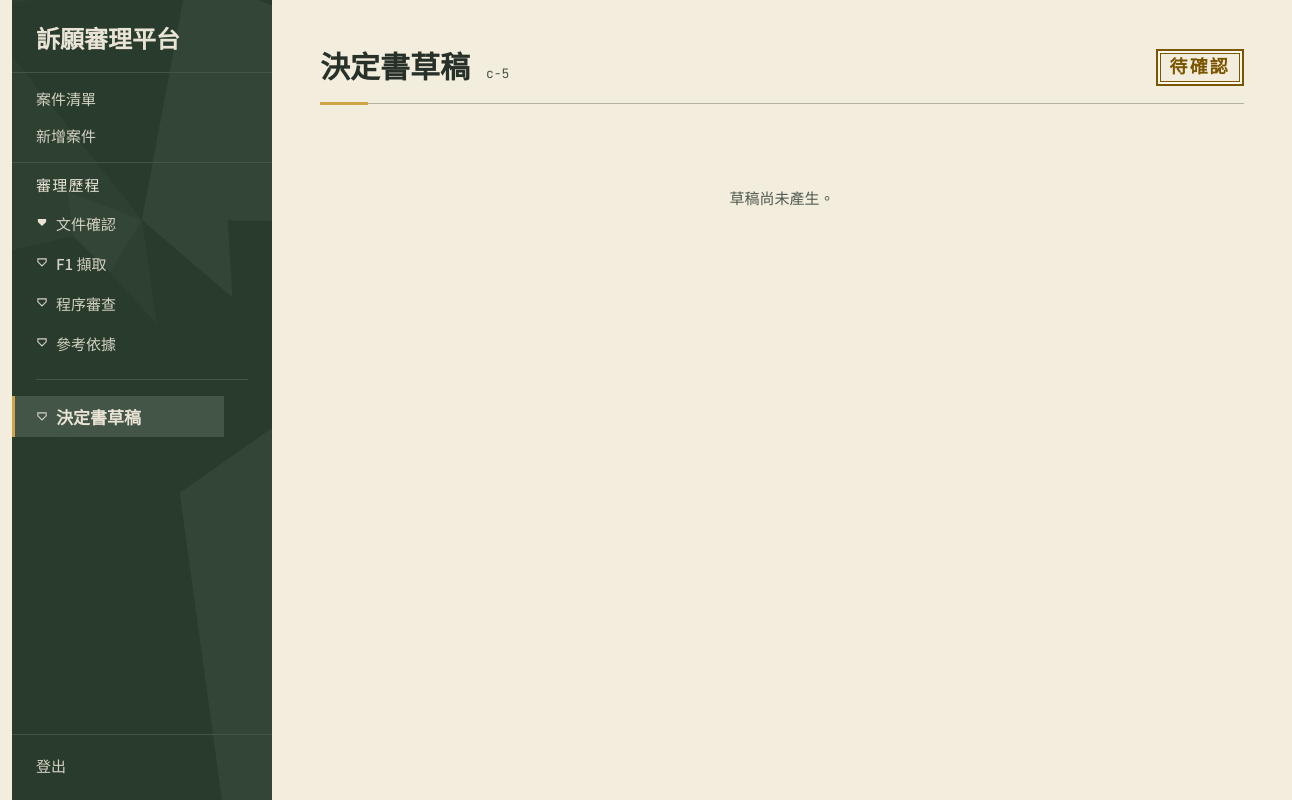
Test: 文件確認頁 › 四份皆符合時可以開始分析
What coordinates should you click on to do the following:
click the button "文件確認"
I would click on:
 (118, 223)
Its box is [12, 203, 224, 243].
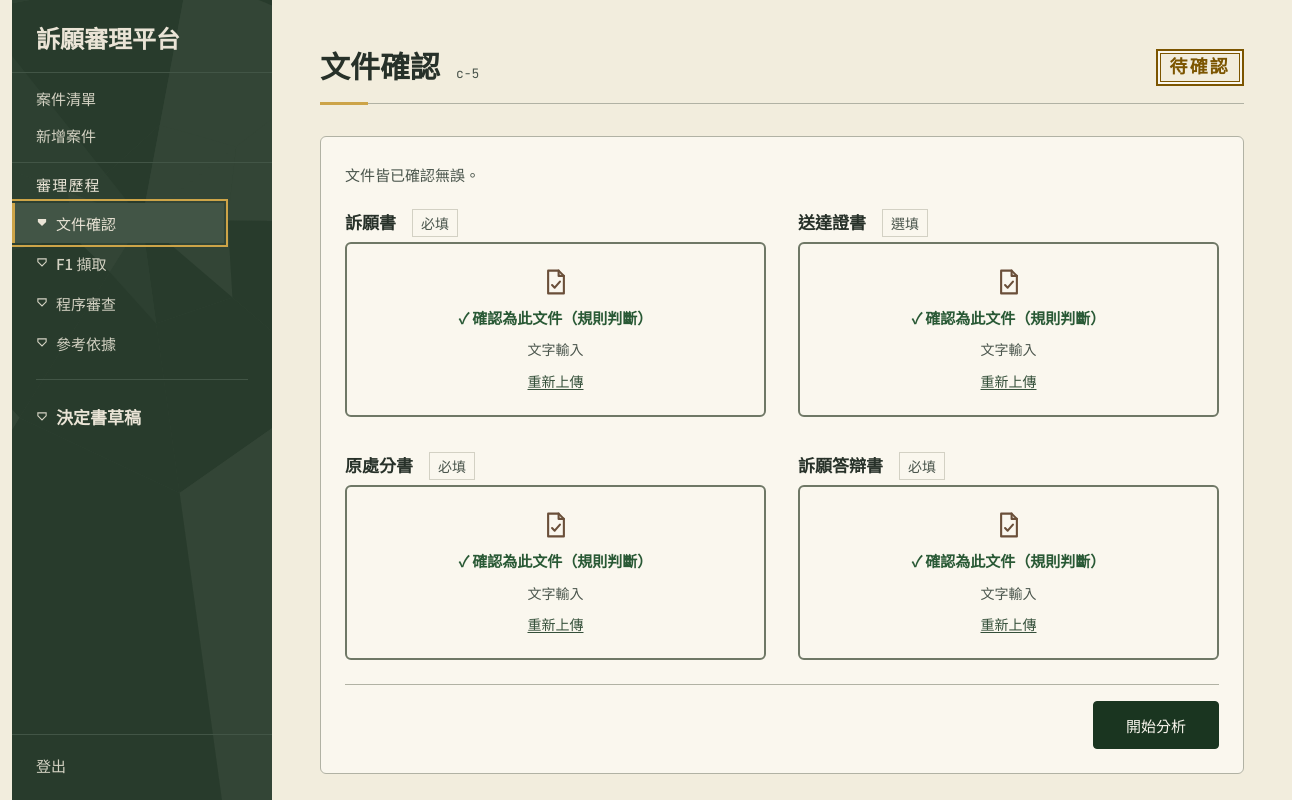
Expected: the text "✓ 確認為此文件（規則判斷）" is shown 4 times, [459, 304, 652, 332]; [912, 304, 1105, 332]; [459, 547, 652, 576]; [912, 547, 1105, 576]
